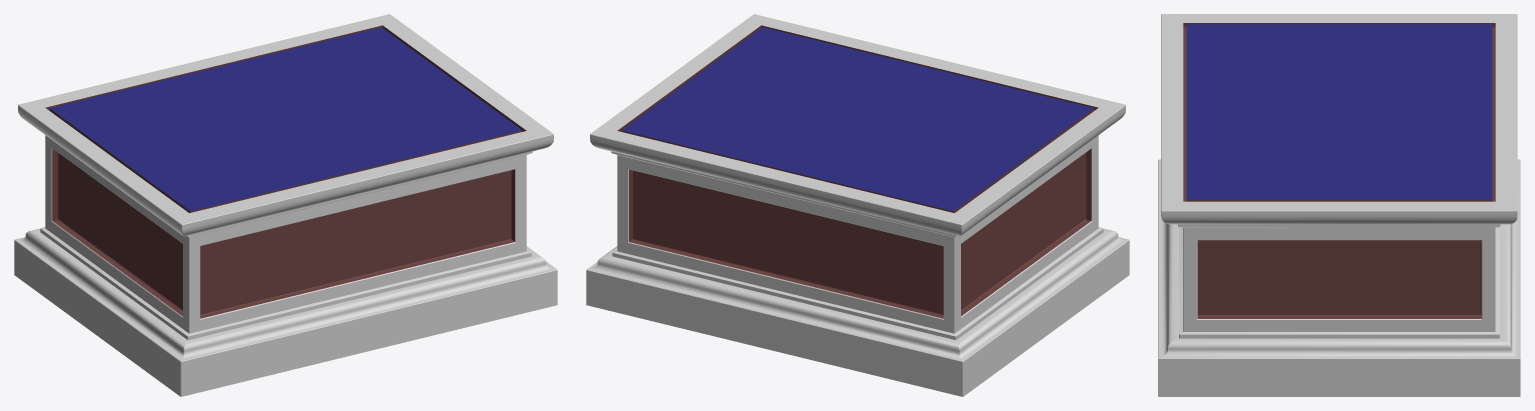
File: pedestal.fbx
3 views of the same model, side by side, from view 1: azimuth 30°, elevation 25°; view 2: azimuth 150°, elevation 25°; view 3: azimuth 270°, elevation 25° (orthographic). The views are drawn at different scales.
Parts seen in each view (by area): view 1: pedestal; view 2: pedestal; view 3: pedestal.
Part boxes in pixels (bbox=[...]): pedestal: bbox=[14, 14, 557, 396]; pedestal: bbox=[586, 14, 1129, 396]; pedestal: bbox=[1158, 14, 1520, 396].
Size of the model in its own units: 680 by 294 by 522.
